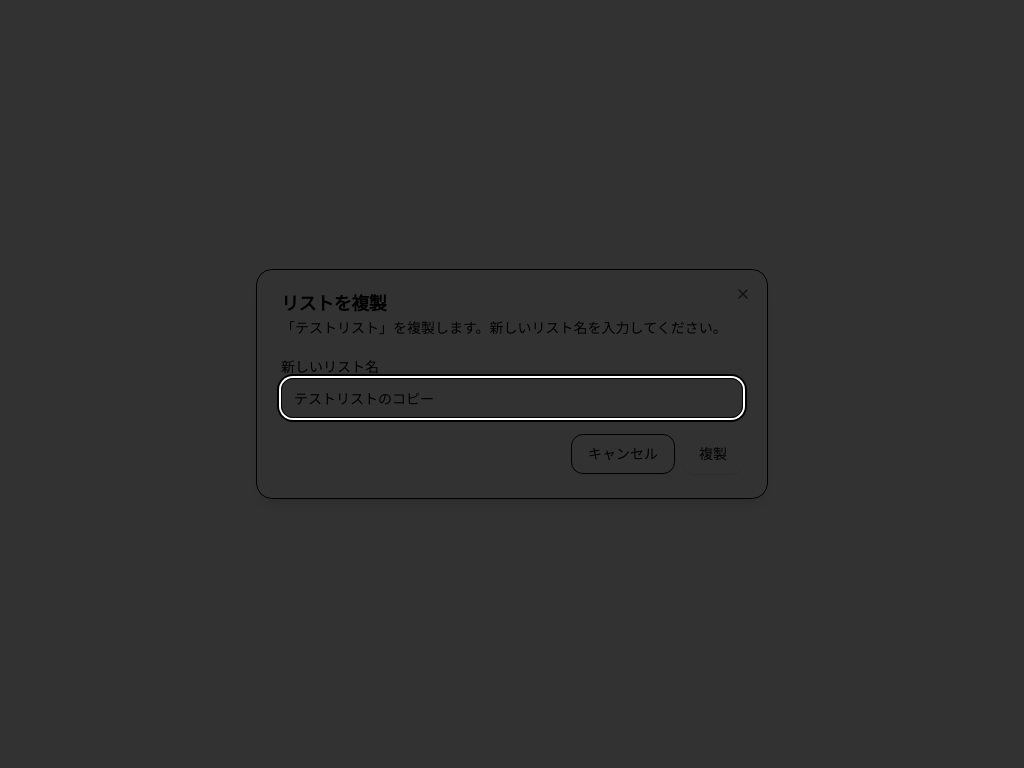
ListDuplicateDialog › バリデーション › リスト名が空の場合、エラーが表示される
Clear the field labelled "新しいリスト名". click: (512, 398)
box: [281,378,743,418]
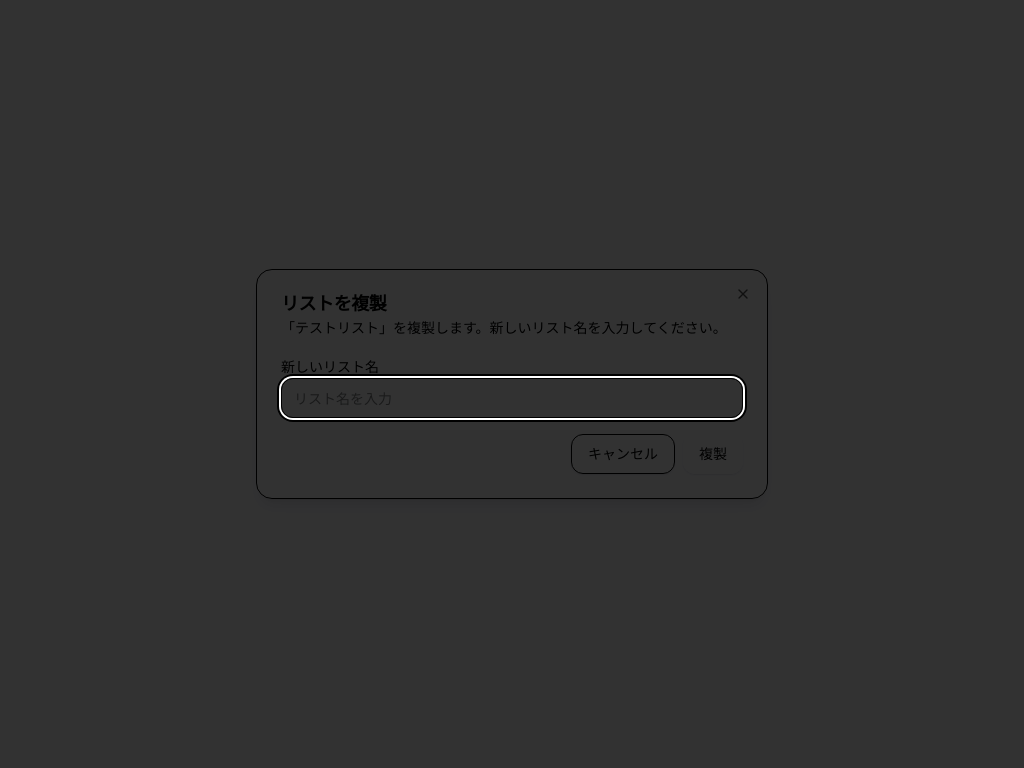
Click the button "複製". click: (713, 454)
box: [683,434,743,474]
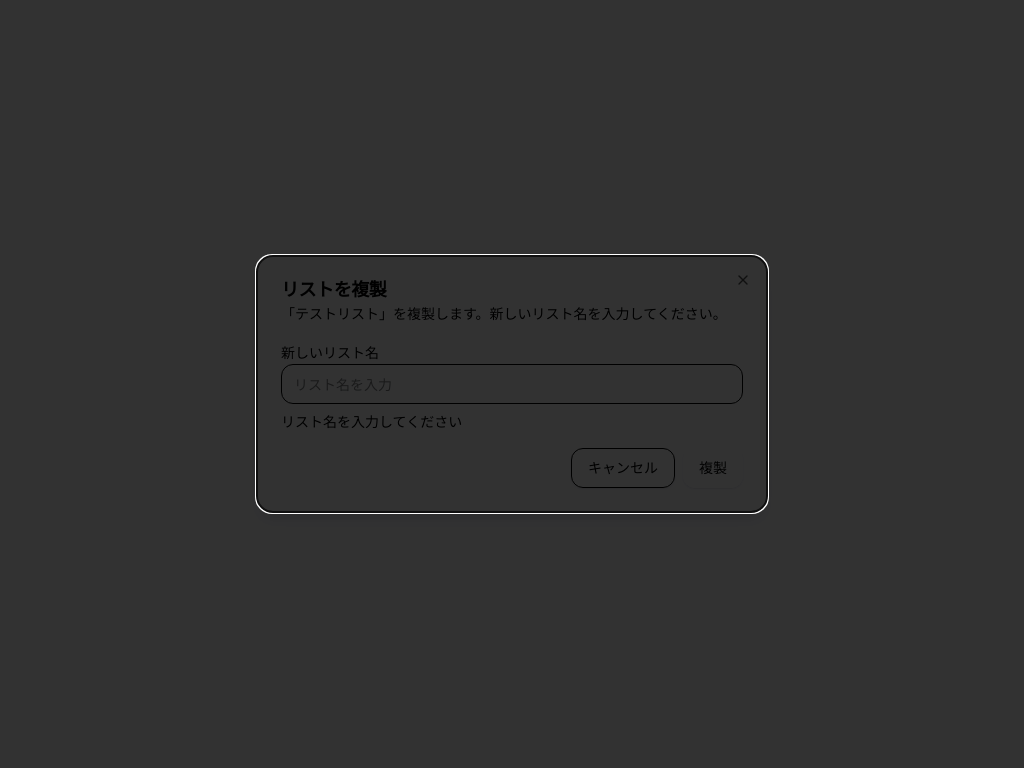
Result: the text "リスト名を入力してください" is shown at [281,412,462,431]
